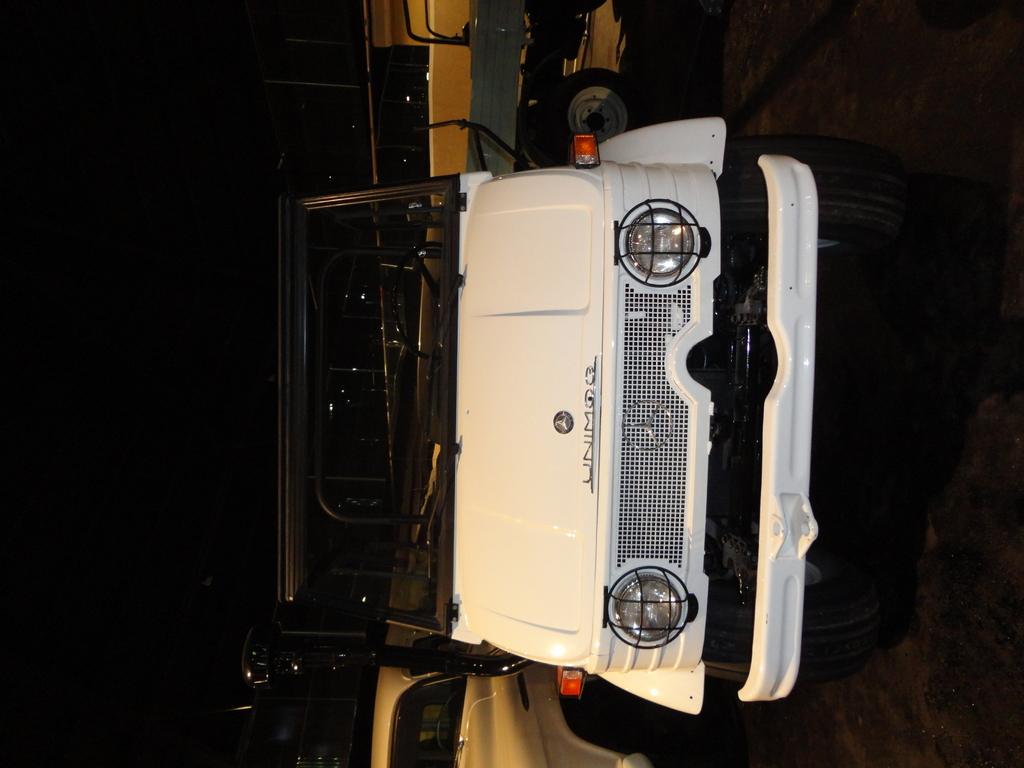Car: (277, 133, 817, 714), (372, 620, 652, 761)
